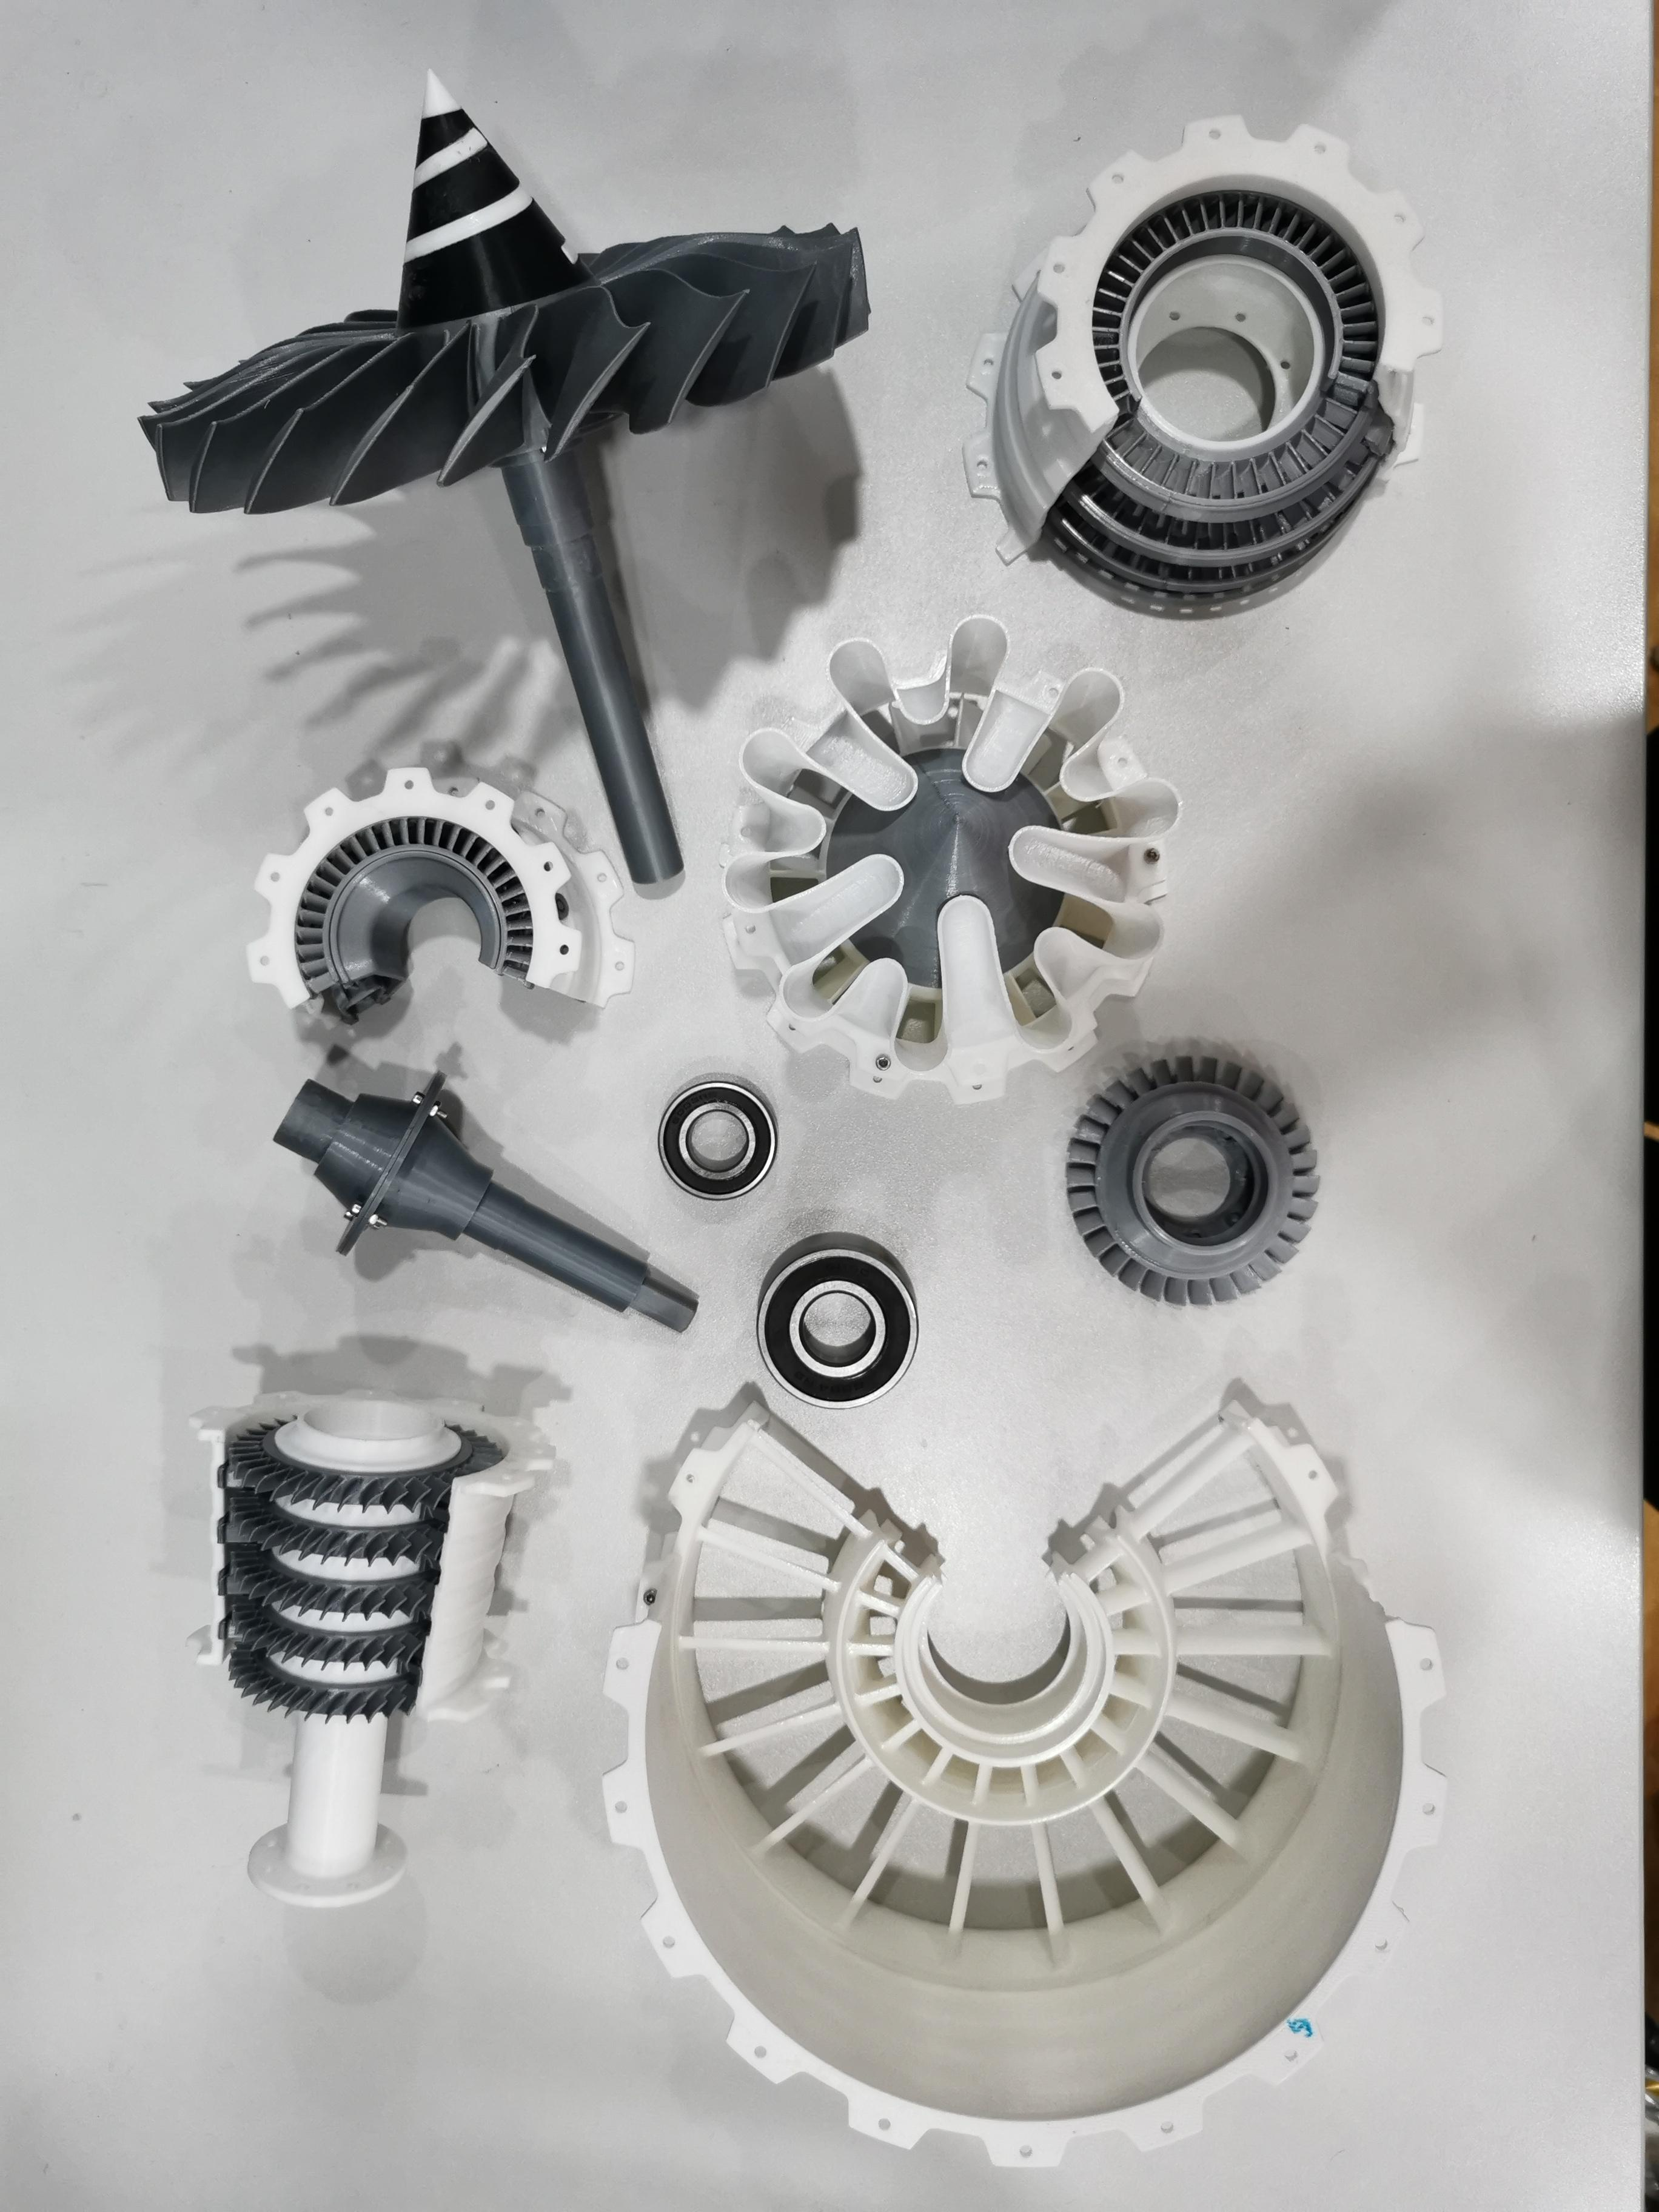Bearing-6003: (633, 1064, 796, 1219)
Bearing-6204: (727, 1217, 945, 1420)
Combustion Section: (213, 756, 653, 1061)
Fan Casing and Support: (591, 1379, 1478, 2186)
Fan and Low Pressure Shaft: (125, 54, 887, 909)
HPT Section: (1037, 1036, 1338, 1327)
LPT Section: (951, 91, 1464, 620)
Low Pressure Spool: (176, 1376, 572, 1923), (220, 1052, 711, 1360)
Nozzle Section: (709, 610, 1190, 1116)
